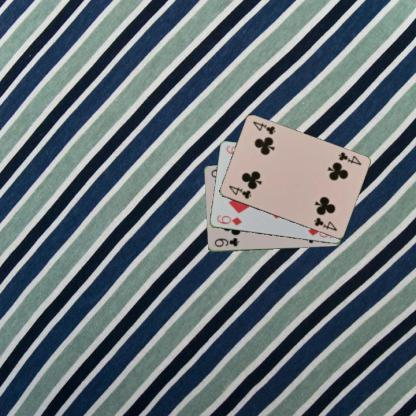4c: (225, 182, 252, 200), (335, 150, 362, 166)
6d: (214, 212, 244, 226)
9c: (211, 235, 240, 249)
